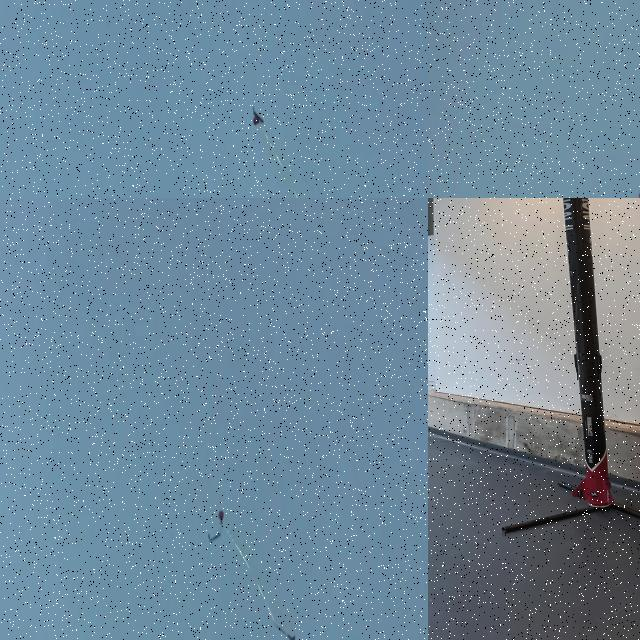Rocket: (563, 198, 615, 508), (274, 621, 295, 640)
